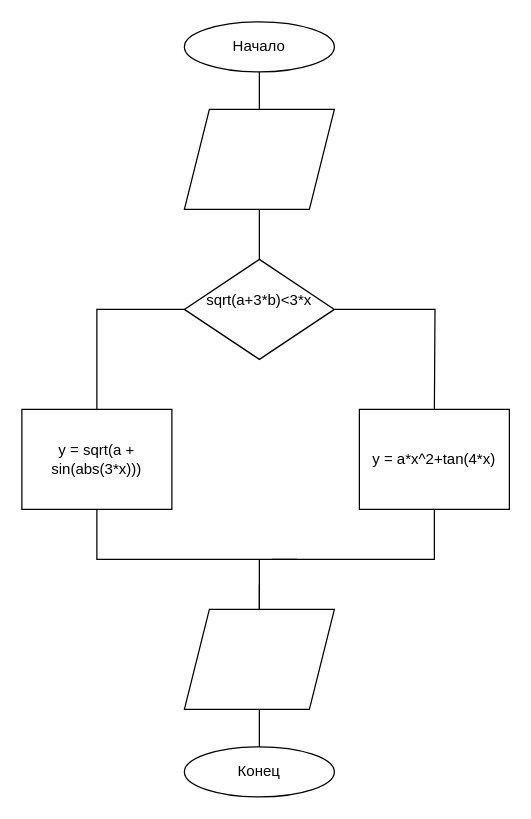
Image size: 531x819. Some labels were removed from this diagram. The centre of each missing label's shape, as x and y in pixels:
ввод a,b,x: (258,158)
Вывод y: (258,658)
